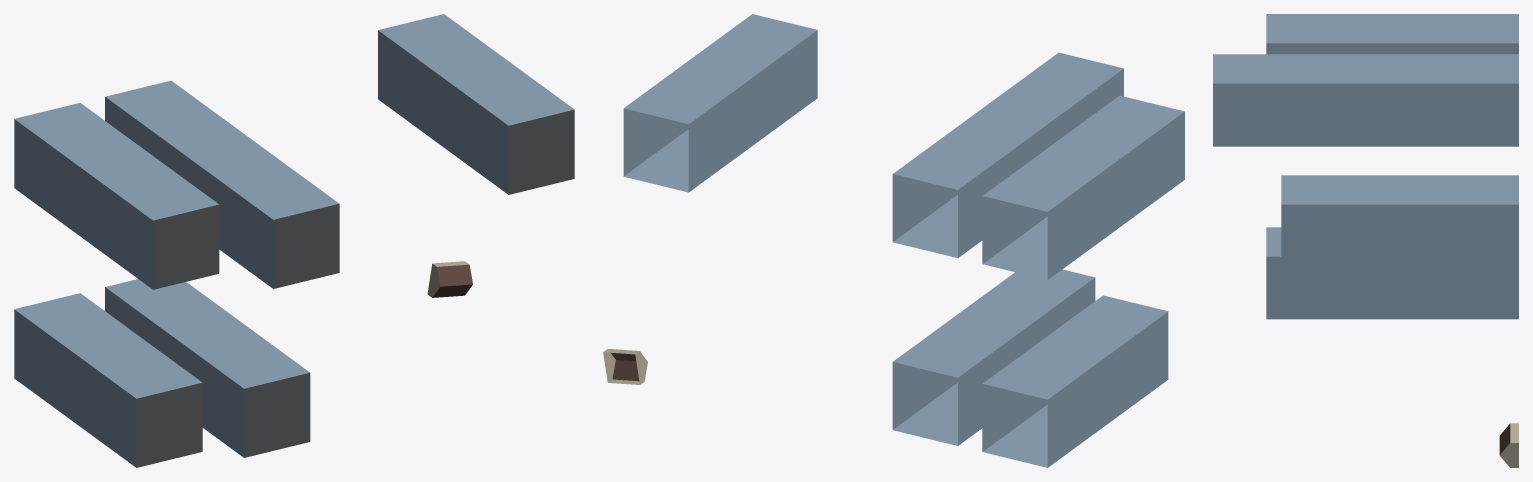
File: island_bldg_11_05.obj
3 views of the same model, side by side, from view 1: azimuth 30°, elevation 25°; view 2: azimuth 150°, elevation 25°; view 3: azimuth 270°, elevation 25° (orthographic). The views are drawn at different scales.
Visible parts, largest first — view 1: island_bldg_11_05; view 2: island_bldg_11_05; view 3: island_bldg_11_05.
Part boxes in pixels (x1,y1,x2,y2): island_bldg_11_05: [14, 14, 574, 467]; island_bldg_11_05: [603, 14, 1184, 467]; island_bldg_11_05: [1213, 14, 1518, 467].
Size of the model in its own units: 218 by 130 by 141.
